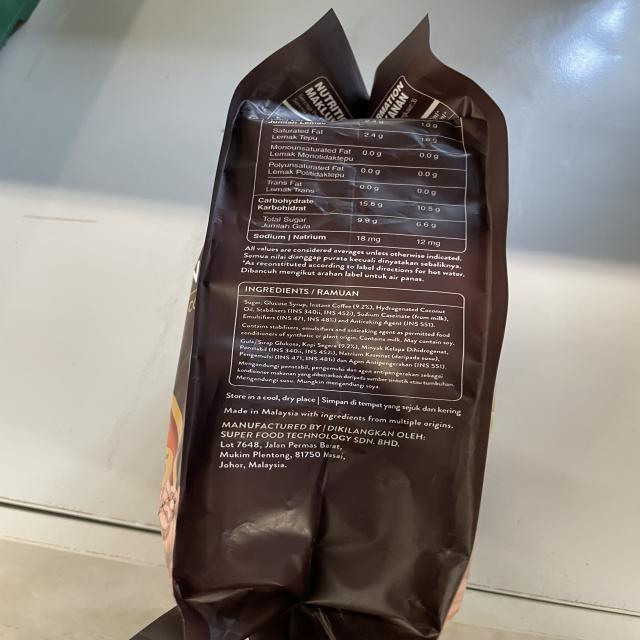object_name: (188, 13, 452, 640)
